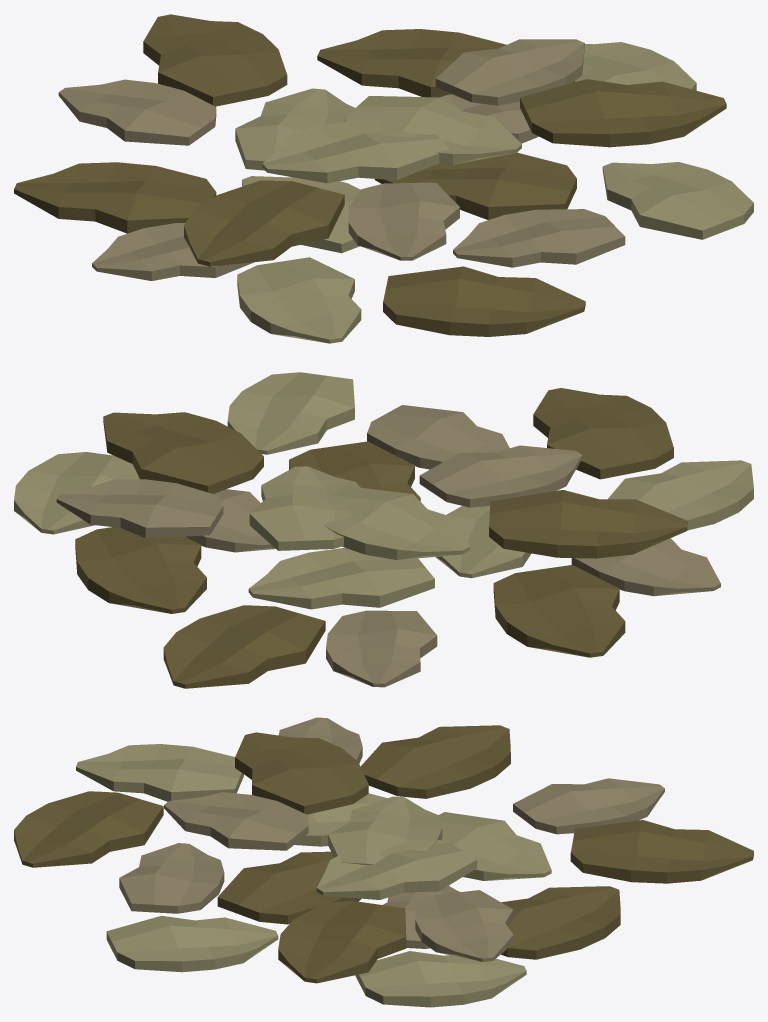
Rendered from Dried Taro Leaves.fbx.
3 renders of one model, top to bottom at view 1: azimuth 30°, elevation 25°; view 2: azimuth 150°, elevation 25°; view 3: azimuth 270°, elevation 25°, orthographic. The views are drawn at different scales.
Visible parts, largest first — view 1: Dried Taro Leaves; view 2: Dried Taro Leaves; view 3: Dried Taro Leaves.
Part boxes in pixels (<box>): Dried Taro Leaves: <box>14,14,753,343</box>; Dried Taro Leaves: <box>14,372,753,688</box>; Dried Taro Leaves: <box>14,717,753,1007</box>.
Bounding box in the file's own units: 35.39 × 1.97 × 39.12.
